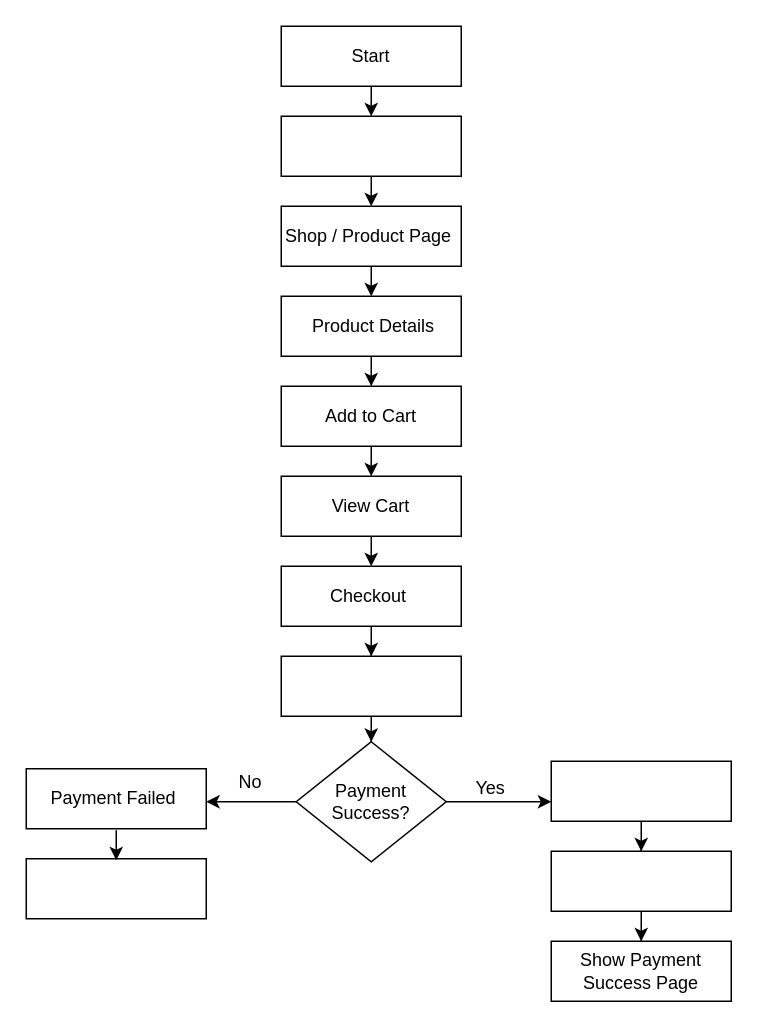
The diagram is 758 pixels wide and 1028 high, and some of its shapes have lost their labels. Here are the shapes that lost their labels. From the top down, the centre of each, then its label:
At point 370,145: "Customer Login".
At point 370,685: "Payment Gateway".
At point 640,790: "Order Confirmed".
At point 115,888: "Retry".
At point 640,880: "Invoice Generated".
